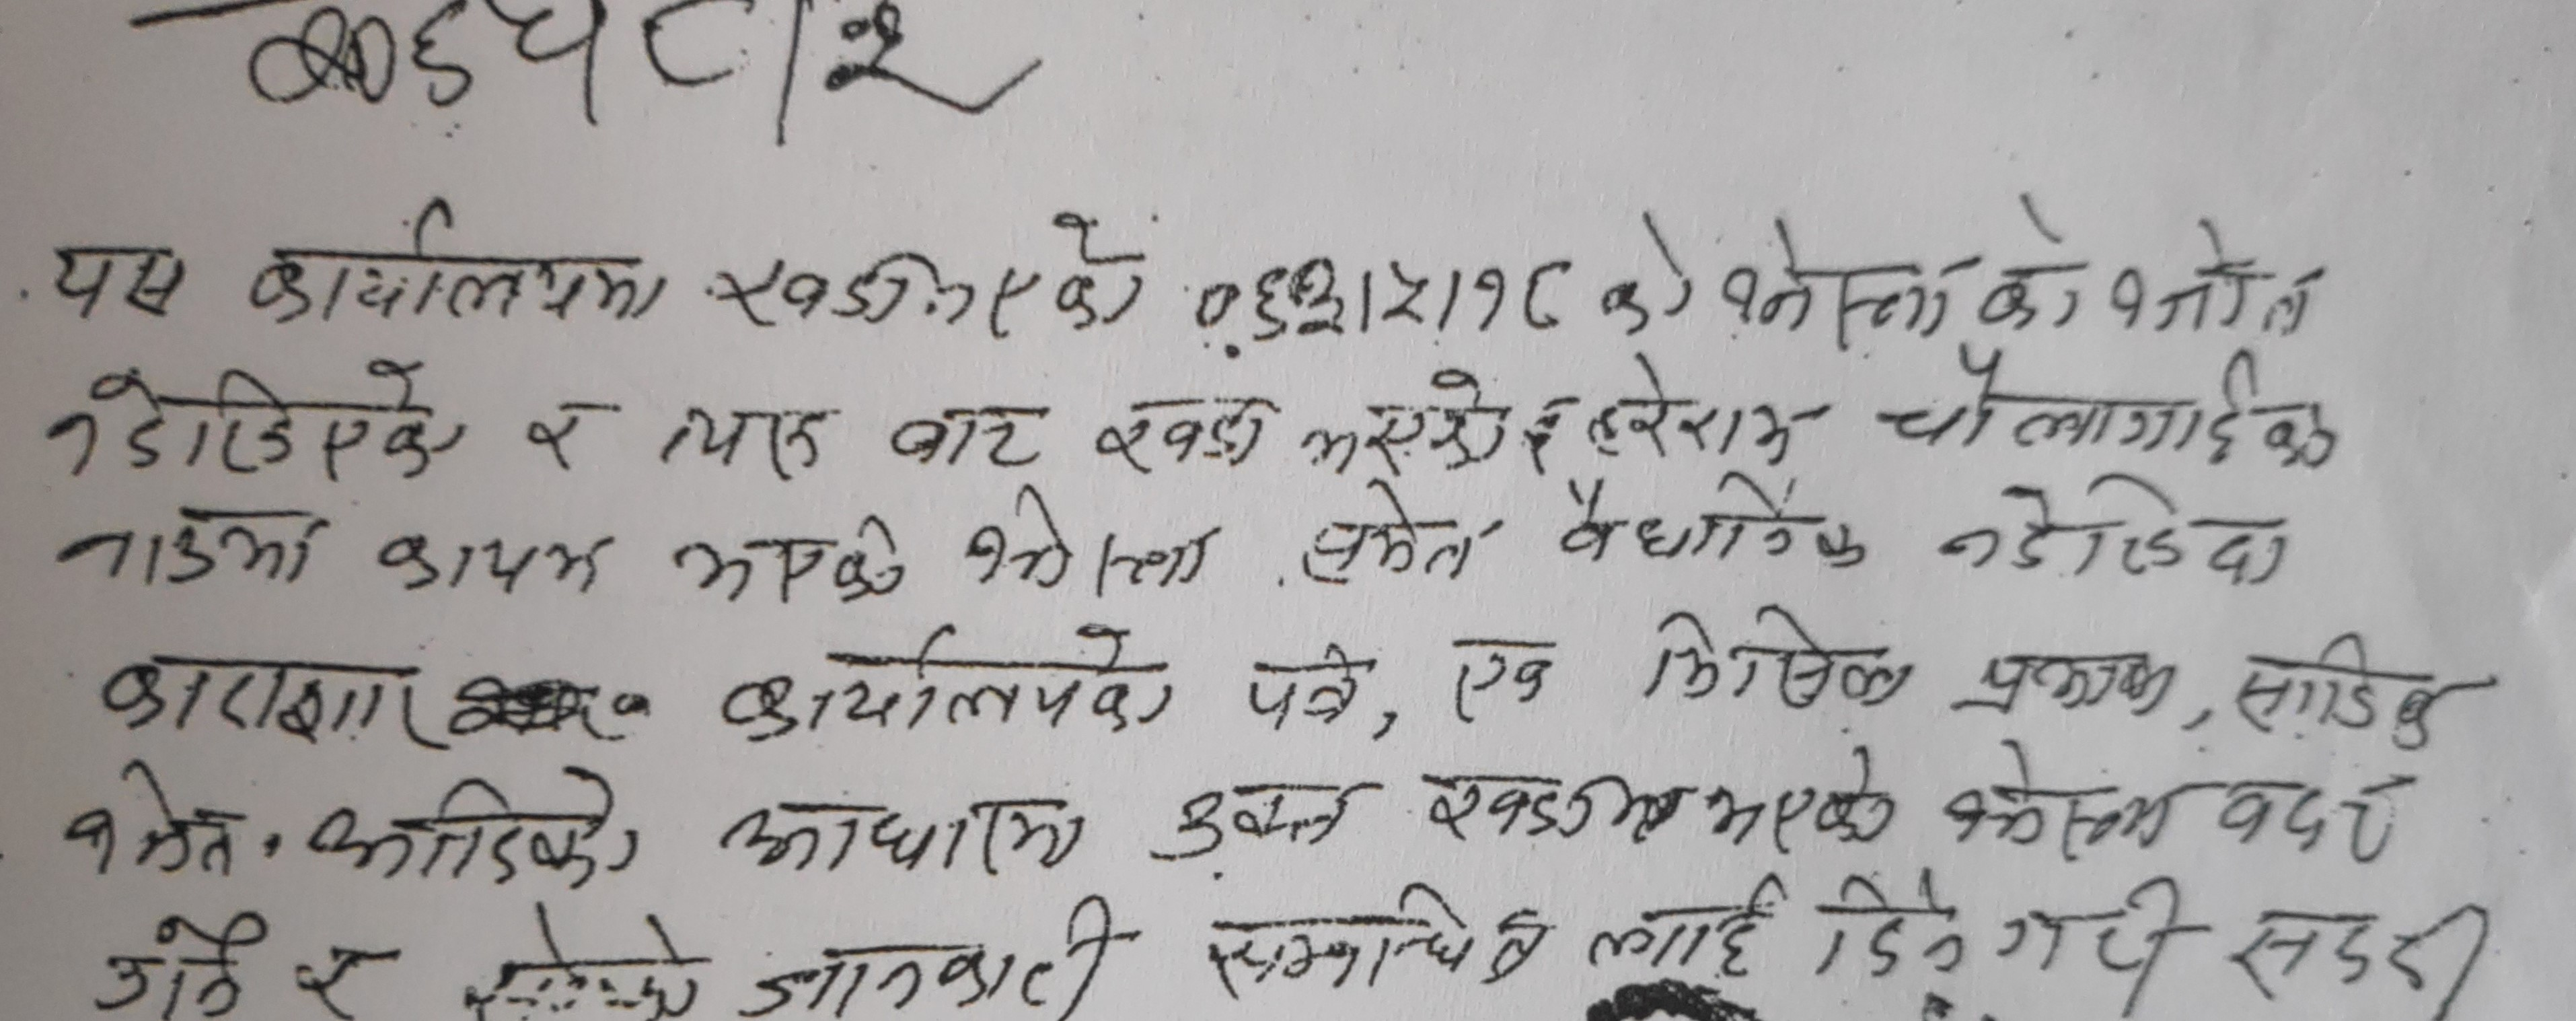text: (710, 615, 1193, 753), (698, 204, 1152, 349), (43, 352, 471, 495), (240, 196, 672, 337), (1874, 344, 2338, 474), (726, 891, 1119, 1021), (307, 758, 644, 894), (1199, 875, 1557, 1003), (1930, 472, 2307, 594), (95, 641, 444, 765), (710, 778, 1083, 886), (1191, 248, 1577, 344), (1549, 469, 1876, 575), (1633, 595, 1916, 718), (2221, 894, 2499, 1016), (1713, 215, 1948, 352), (1940, 732, 2180, 865), (453, 894, 705, 1021), (963, 482, 1211, 602), (54, 493, 327, 598), (1994, 871, 2192, 1016), (2100, 227, 2328, 349), (2233, 628, 2453, 753), (1585, 352, 1807, 472), (1694, 738, 1909, 860), (662, 503, 907, 608), (1579, 865, 1792, 982), (1295, 365, 1515, 472), (57, 756, 245, 881), (1408, 765, 1687, 847), (1290, 475, 1502, 582), (2211, 768, 2420, 873), (82, 908, 268, 1021), (1812, 866, 1973, 988), (375, 521, 616, 602), (1152, 776, 1364, 866), (1950, 646, 2185, 725), (654, 398, 830, 493), (1973, 191, 2085, 337), (1592, 206, 1705, 344), (1089, 391, 1273, 475), (1429, 621, 1557, 732), (881, 398, 1050, 478), (1237, 635, 1375, 732), (44, 237, 189, 326), (287, 939, 399, 1021), (514, 393, 591, 475)
